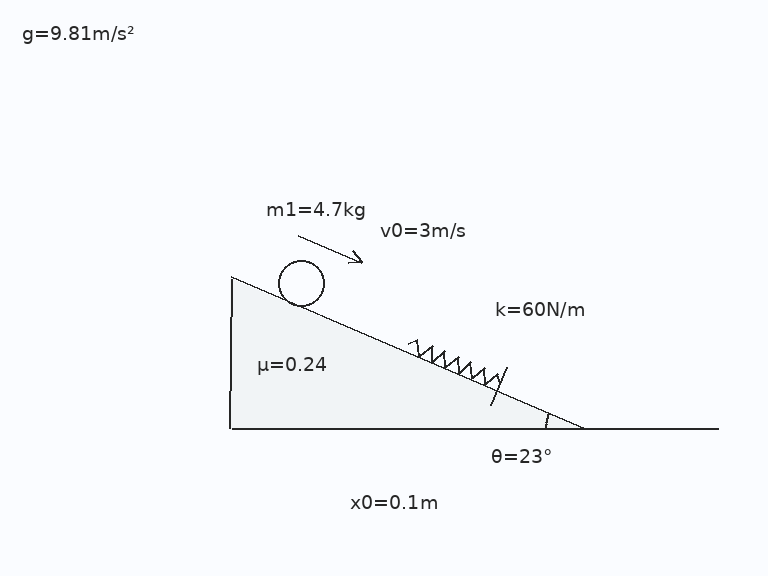ball: (276, 258, 326, 308)
ramp: (229, 276, 588, 431)
spring: (406, 338, 503, 386)
